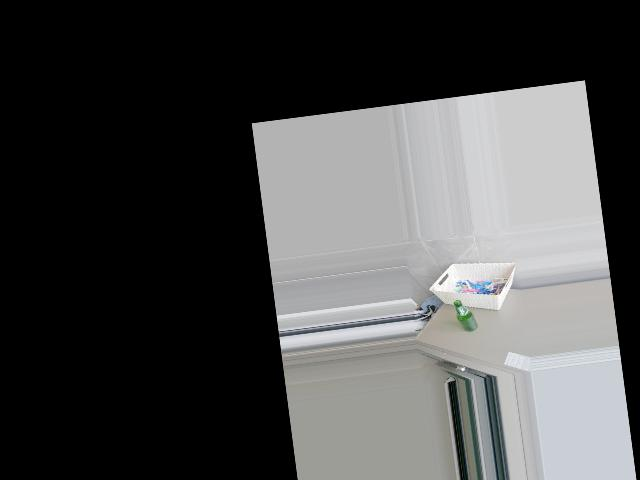beer: (453, 298, 478, 333)
